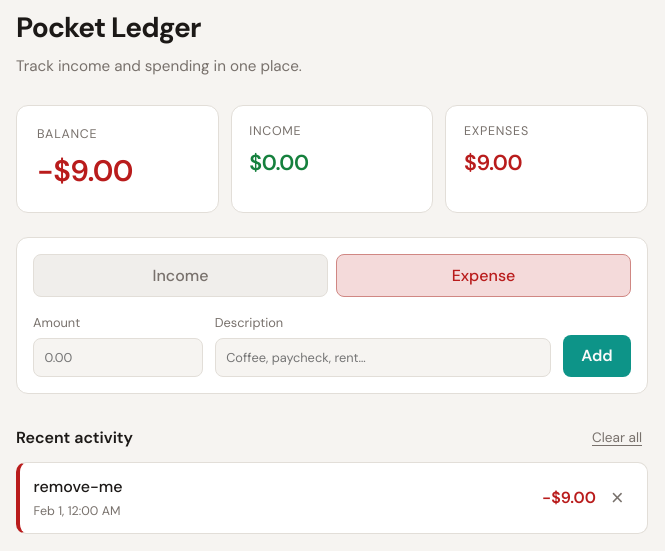
Test: App › deletes a row from the list
What coordinates should you click on to do the following:
click the button named "delete remove-me"
I would click on:
 (617, 498)
Its box is [601,482,633,514].
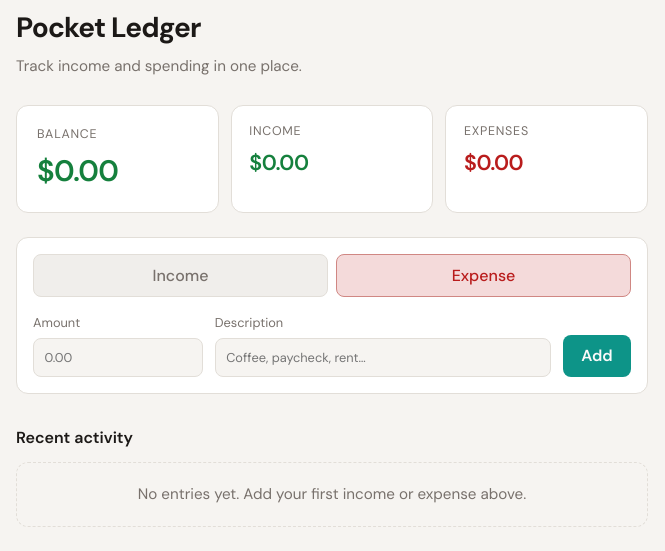
Now the text "No entries yet. Add your first income or expense above." is shown, box [16,462,648,527]
